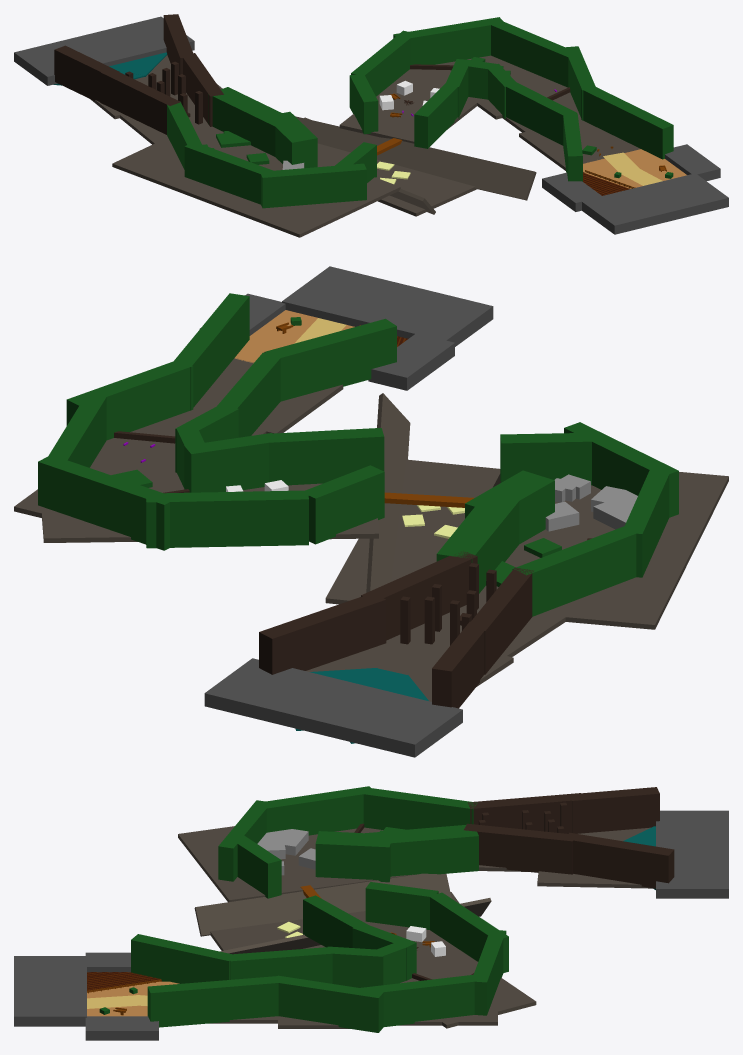
The model's file is Stage_1_1.FBX.
3 renders of one model, top to bottom at view 1: azimuth 30°, elevation 25°; view 2: azimuth 150°, elevation 25°; view 3: azimuth 270°, elevation 25°, orthographic. The views are drawn at different scales.
Visible parts, largest first — view 1: Cube__9__1, Cube__7__1, Cube__2__3, Cube__3_, Cube__26_, Cube__7_, Cube__6__1, Cube__10_, Cube__9_, Cube__20_, Cube__25_, Cube__13__1 (+30 smaller); view 2: Cube__3_, Cube__9__1, Cube__2__3, Cube__11_, Cube__13__1, Cube__10_, Cube__23_, Cube__13_, Cube__24_, Cube__18_, Cube__8_, Cube__17_ (+26 smaller); view 3: Cube__3_, Cube__7_, Cube__2__3, Cube__8__1, Cube__20_, Cube__8_, Cube__23_, Cube__9__1, Cube__19_, Cube__9_, Cube__13_, Cube__24_ (+27 smaller).
Boxes of the visible parts, left/top/right/bottom form: Cube__9__1: left=112, top=120, right=400, bottom=237; Cube__7__1: left=295, top=116, right=536, bottom=200; Cube__2__3: left=582, top=173, right=728, bottom=234; Cube__3_: left=14, top=16, right=194, bottom=85; Cube__26_: left=260, top=163, right=366, bottom=208; Cube__7_: left=581, top=85, right=673, bottom=159; Cube__6__1: left=339, top=56, right=519, bottom=143; Cube__10_: left=393, top=17, right=503, bottom=64; Cube__9_: left=490, top=20, right=577, bottom=87; Cube__20_: left=208, top=87, right=297, bottom=156; Cube__25_: left=184, top=145, right=273, bottom=204; Cube__13__1: left=304, top=117, right=476, bottom=216; Cube__3_: left=204, top=658, right=462, bottom=757; Cube__9__1: left=460, top=472, right=728, bottom=629; Cube__2__3: left=282, top=266, right=493, bottom=346; Cube__11_: left=146, top=490, right=308, bottom=548; Cube__13__1: left=325, top=459, right=500, bottom=604; Cube__10_: left=38, top=456, right=176, bottom=550; Cube__23_: left=259, top=593, right=386, bottom=674; Cube__13_: left=264, top=318, right=396, bottom=401; Cube__24_: left=512, top=526, right=638, bottom=616; Cube__18_: left=265, top=428, right=384, bottom=485; Cube__8_: left=66, top=361, right=193, bottom=440; Cube__17_: left=184, top=433, right=277, bottom=492; Cube__3_: left=656, top=810, right=728, bottom=898; Cube__7_: left=147, top=976, right=283, bottom=1027; Cube__2__3: left=14, top=956, right=86, bottom=1026; Cube__8__1: left=194, top=873, right=451, bottom=936; Cube__20_: left=360, top=824, right=478, bottom=876; Cube__8_: left=273, top=975, right=383, bottom=1032; Cube__23_: left=564, top=832, right=674, bottom=888; Cube__9__1: left=178, top=826, right=479, bottom=902; Cube__19_: left=464, top=823, right=574, bottom=874; Cube__9_: left=359, top=974, right=478, bottom=1026; Cube__13_: left=131, top=934, right=235, bottom=983; Cube__24_: left=363, top=787, right=477, bottom=829.
Size of the model in its own units: 5735 by 729 by 7290.
